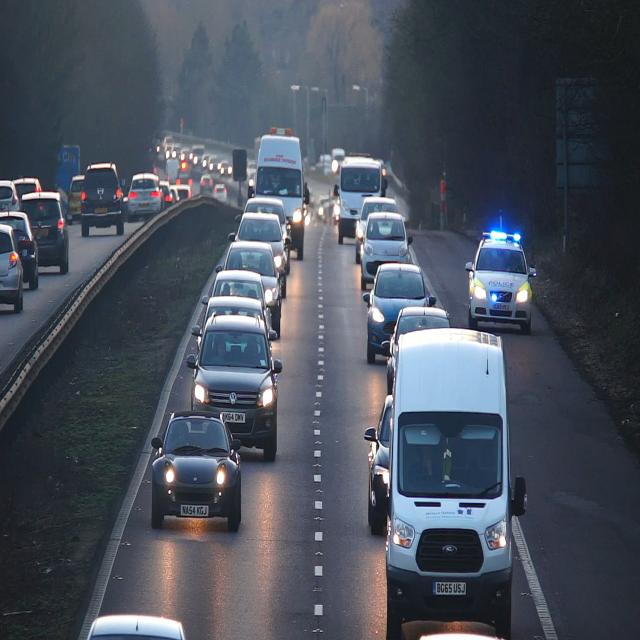emergency lights: (469, 222, 533, 244), (492, 292, 498, 305)
